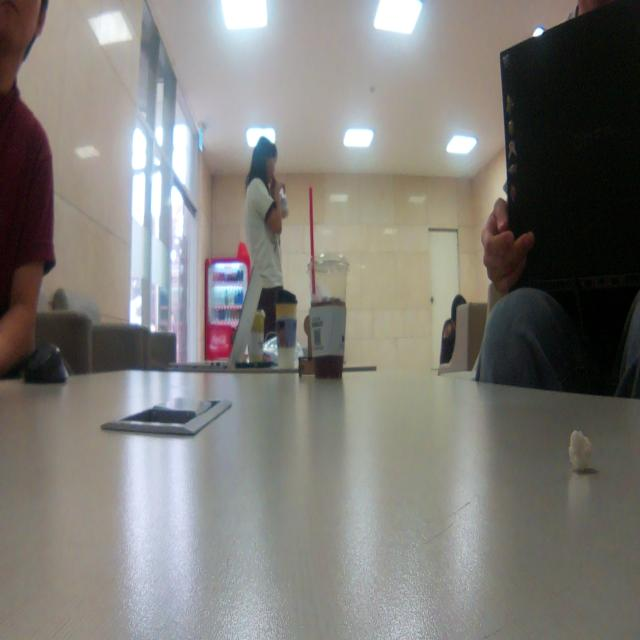target: (298, 315, 320, 376)
